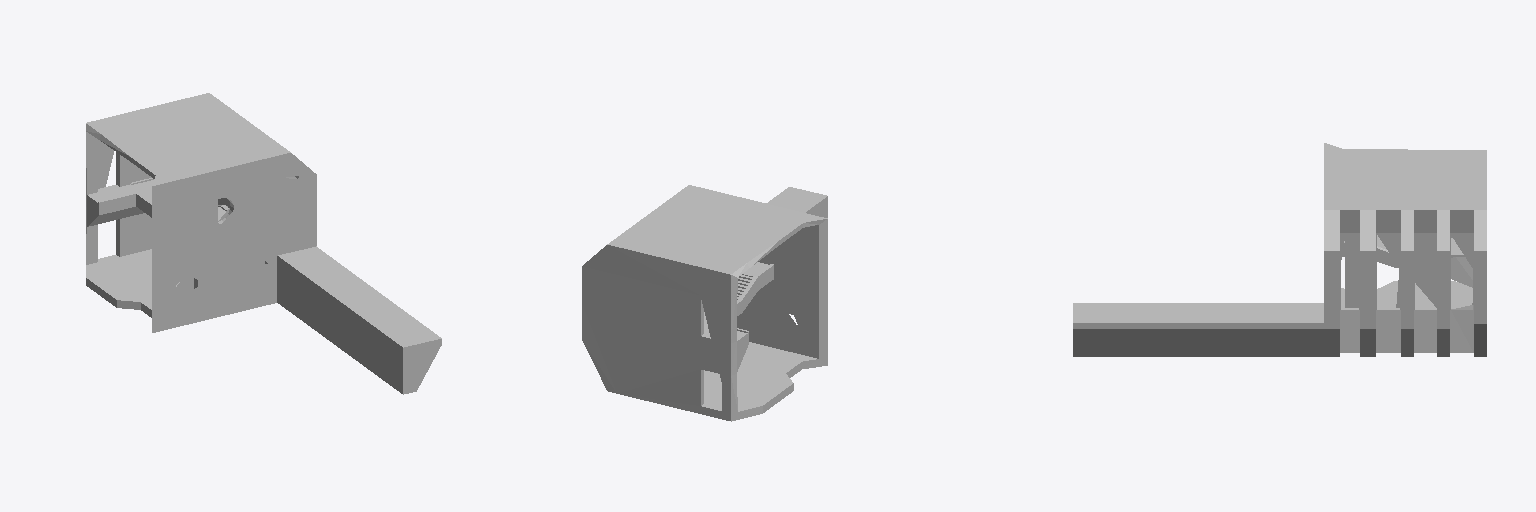
Rendered from Rooms_Common_Room.obj.
The picture shows the model from 3 angles: view 1: azimuth 30°, elevation 25°; view 2: azimuth 150°, elevation 25°; view 3: azimuth 270°, elevation 25°; orthographic projection.
Parts seen in each view (by area): view 1: default; view 2: default; view 3: default.
Part boxes in pixels (x1,y1,x2,y2): default: (86,93,441,394); default: (582,185,827,421); default: (1073,143,1486,356).
Size of the model in its own units: 185 by 157 by 402.